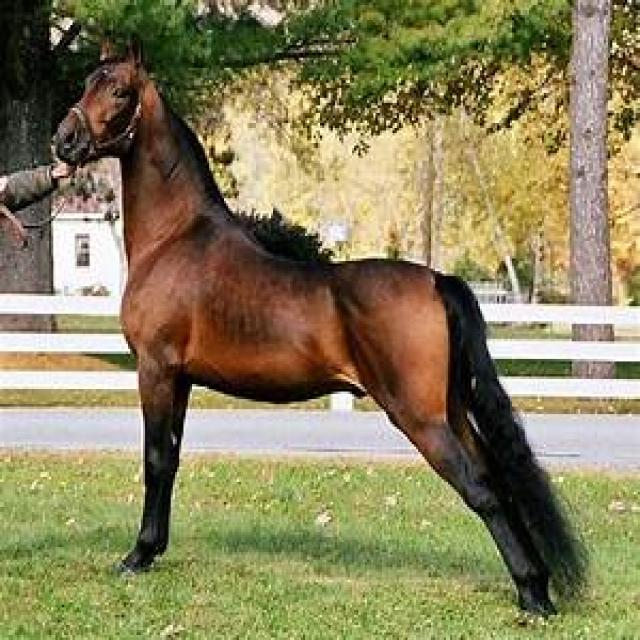horse: (49, 50, 593, 617)
